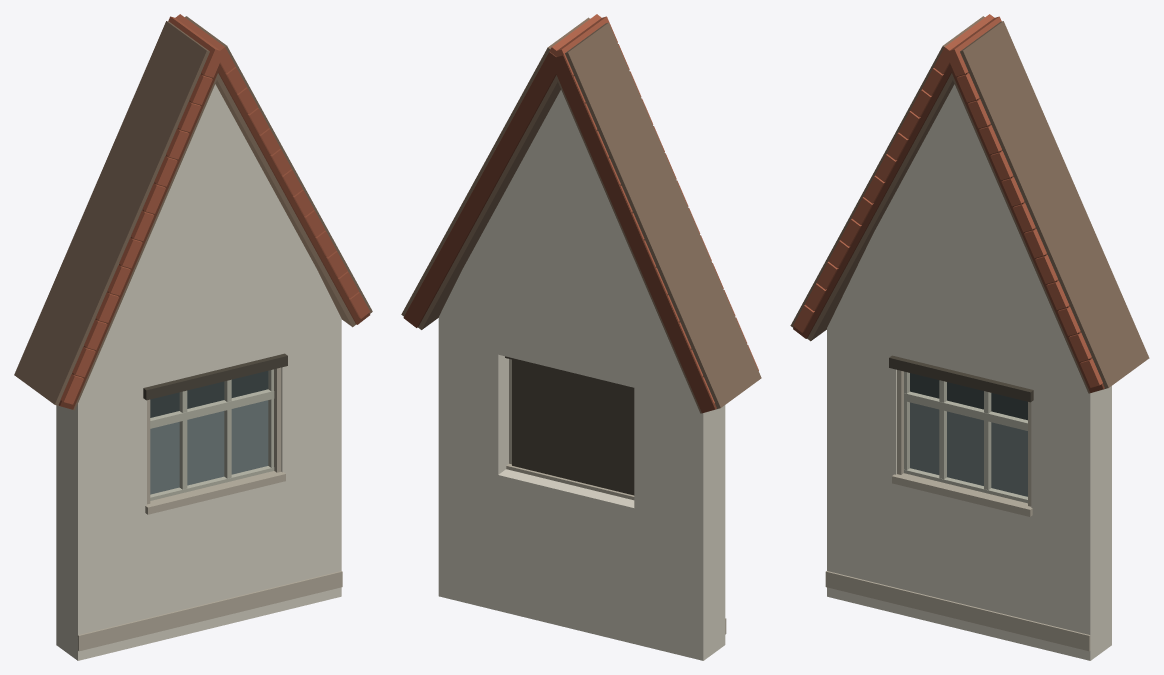
The model's file is huangpu-julu-334-courtyard-gable-window-lod.glb.
3 renders of one model, left to right at view 1: azimuth 30°, elevation 25°; view 2: azimuth 150°, elevation 25°; view 3: azimuth 330°, elevation 25°, orthographic.
Visible parts, largest first — view 1: 巨鹿路334号院内尖山墙窗与双坡瓦檐; view 2: 巨鹿路334号院内尖山墙窗与双坡瓦檐; view 3: 巨鹿路334号院内尖山墙窗与双坡瓦檐.
Boxes of the visible parts, x1=… form: 巨鹿路334号院内尖山墙窗与双坡瓦檐: x1=14, y1=14, x2=372, y2=660; 巨鹿路334号院内尖山墙窗与双坡瓦檐: x1=401, y1=14, x2=761, y2=660; 巨鹿路334号院内尖山墙窗与双坡瓦檐: x1=790, y1=14, x2=1149, y2=660.
Size of the model in its own units: 3.23 by 5.7 by 0.802.
